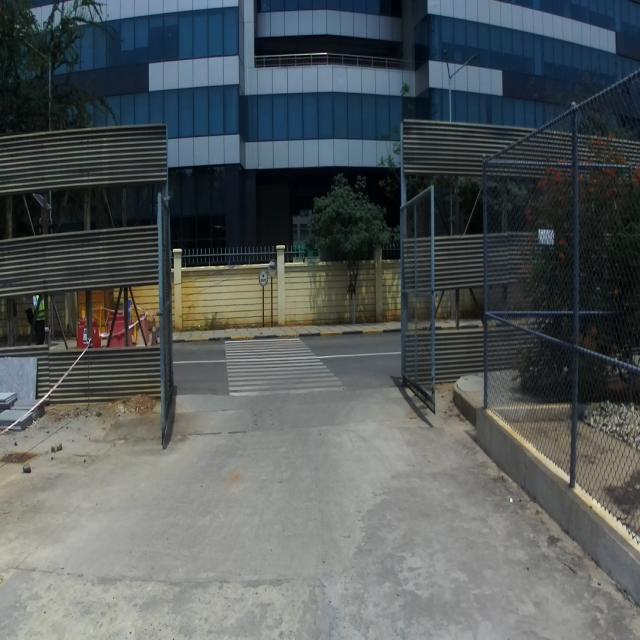gate ahead at: (400, 180, 443, 418), (154, 188, 177, 452)
